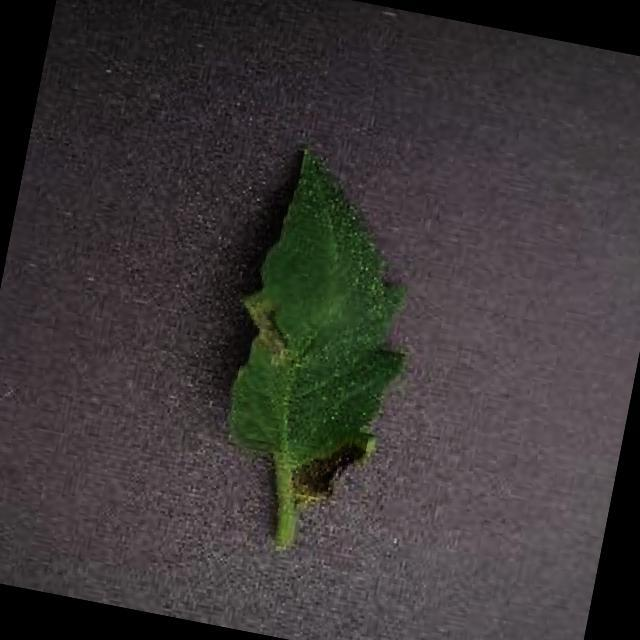Tomato late blight leaf: (203, 135, 449, 520)
